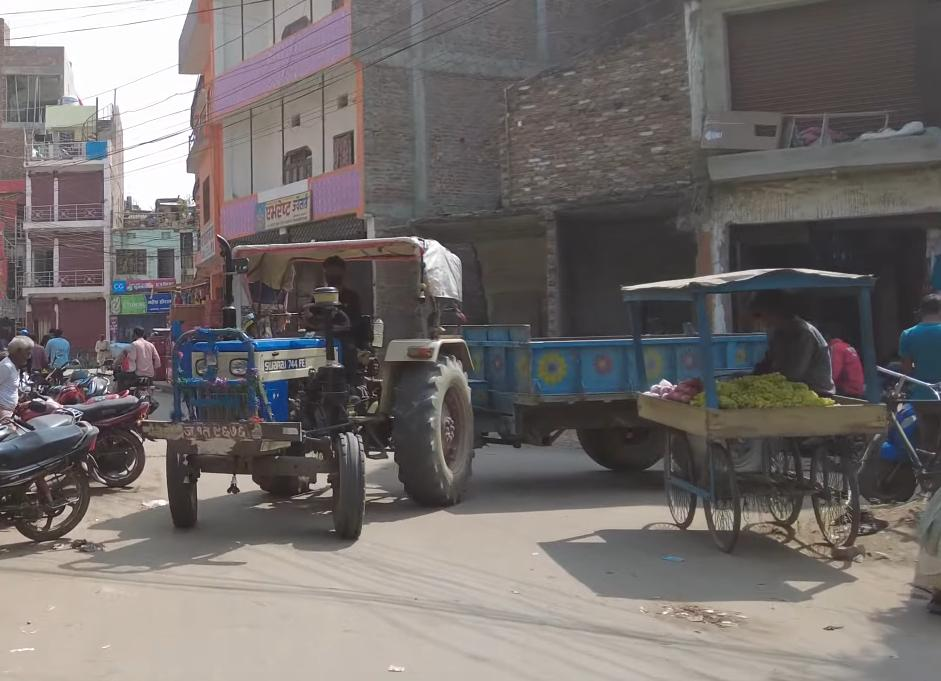bike: (0, 399, 99, 545)
tractor: (132, 209, 500, 565)
